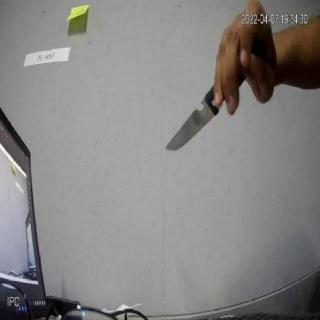knife: (165, 44, 258, 153)
